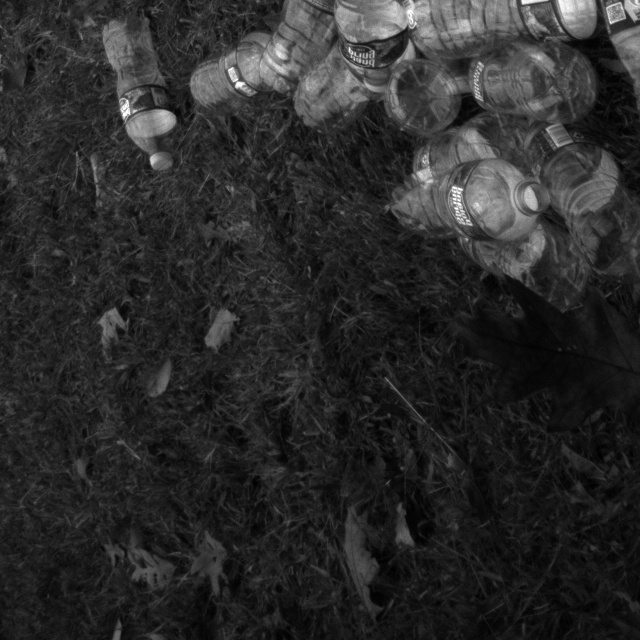bottle: (89, 0, 195, 178), (395, 0, 602, 77), (374, 155, 555, 240), (177, 15, 303, 122), (331, 0, 414, 96), (588, 0, 640, 134)
